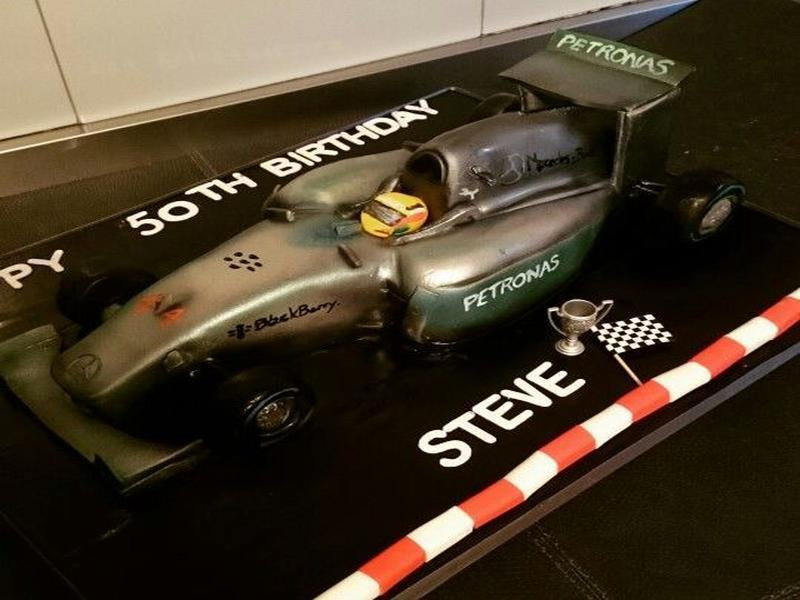f1: (3, 26, 781, 545)
